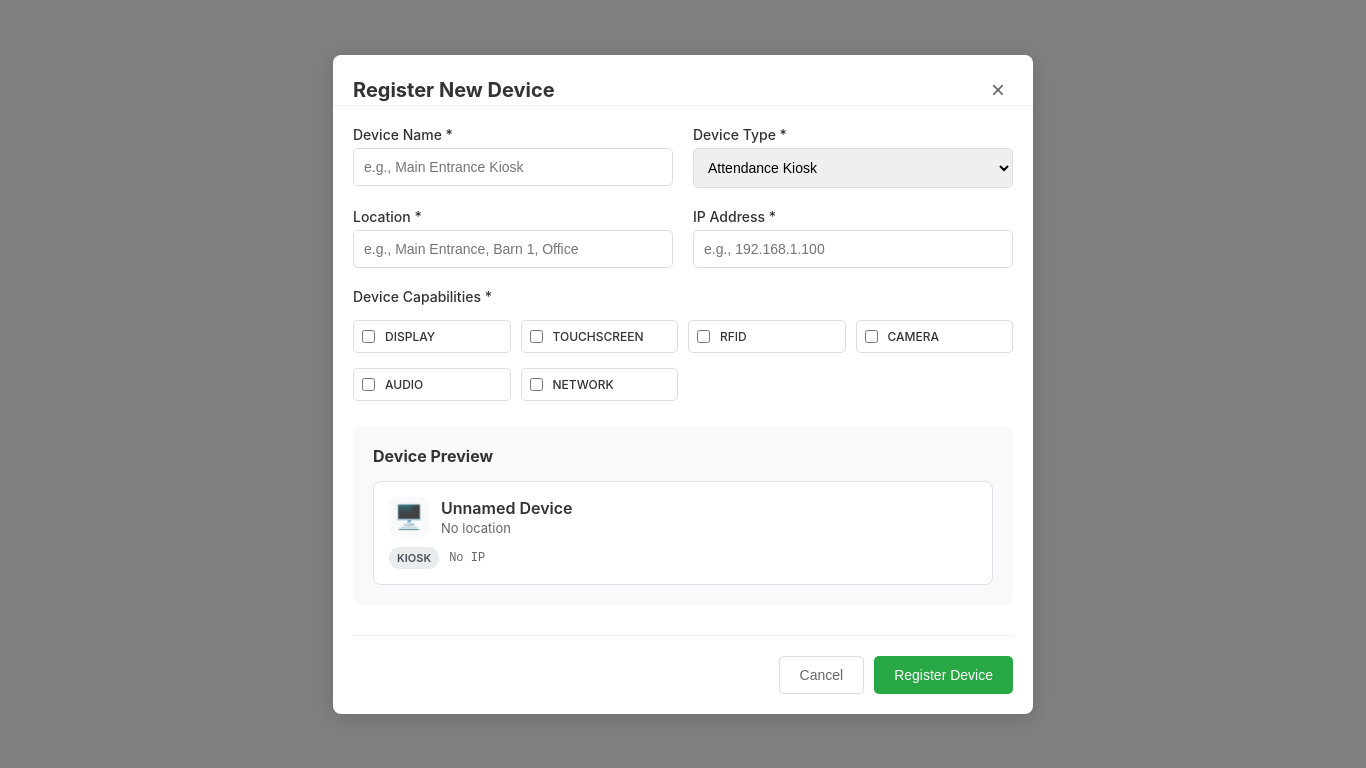
Scenario: DeviceRegistration › validates device name length
The width and height of the screenshot is (1366, 768).
In the field labelled "Device Name *": [513, 166] box x1=353 y1=148 x2=673 y2=186, type "AB"
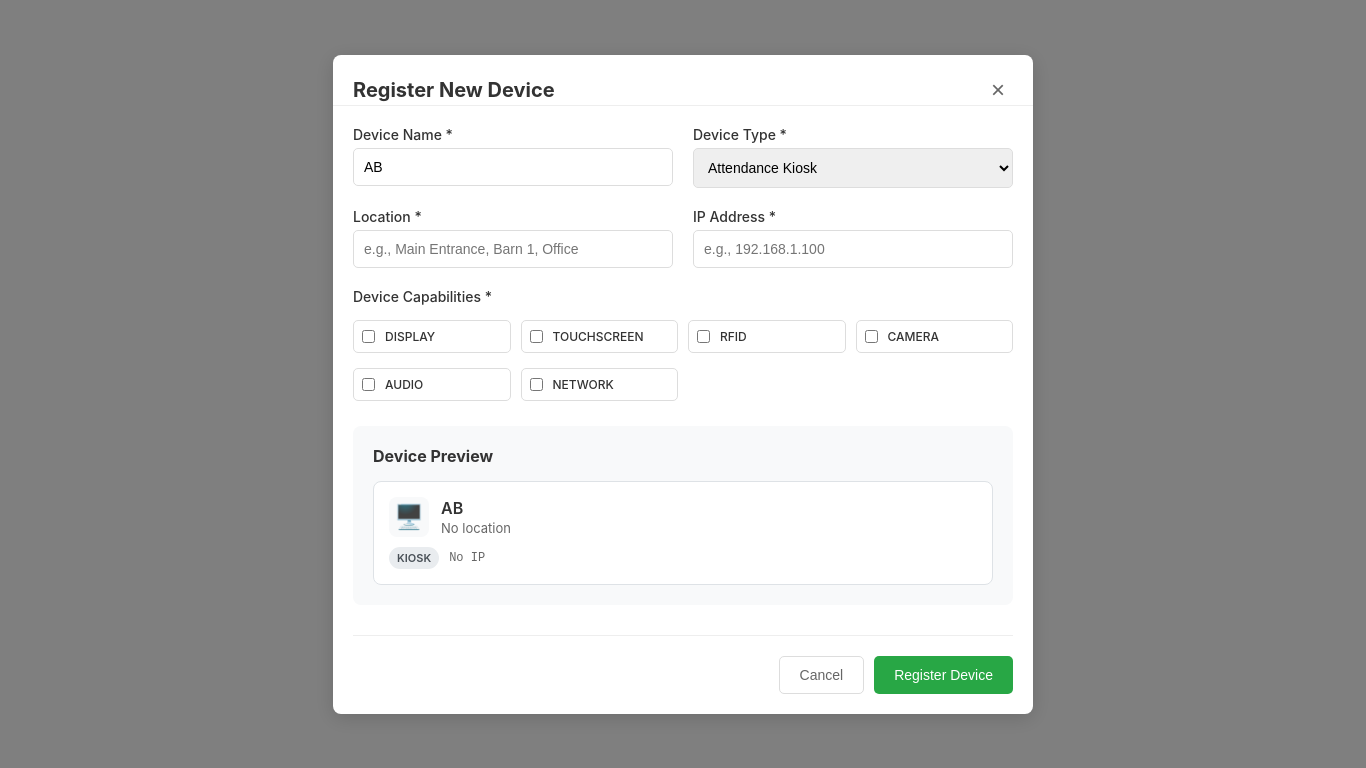
Click the button "Register Device": [944, 674] box x1=874 y1=656 x2=1013 y2=694
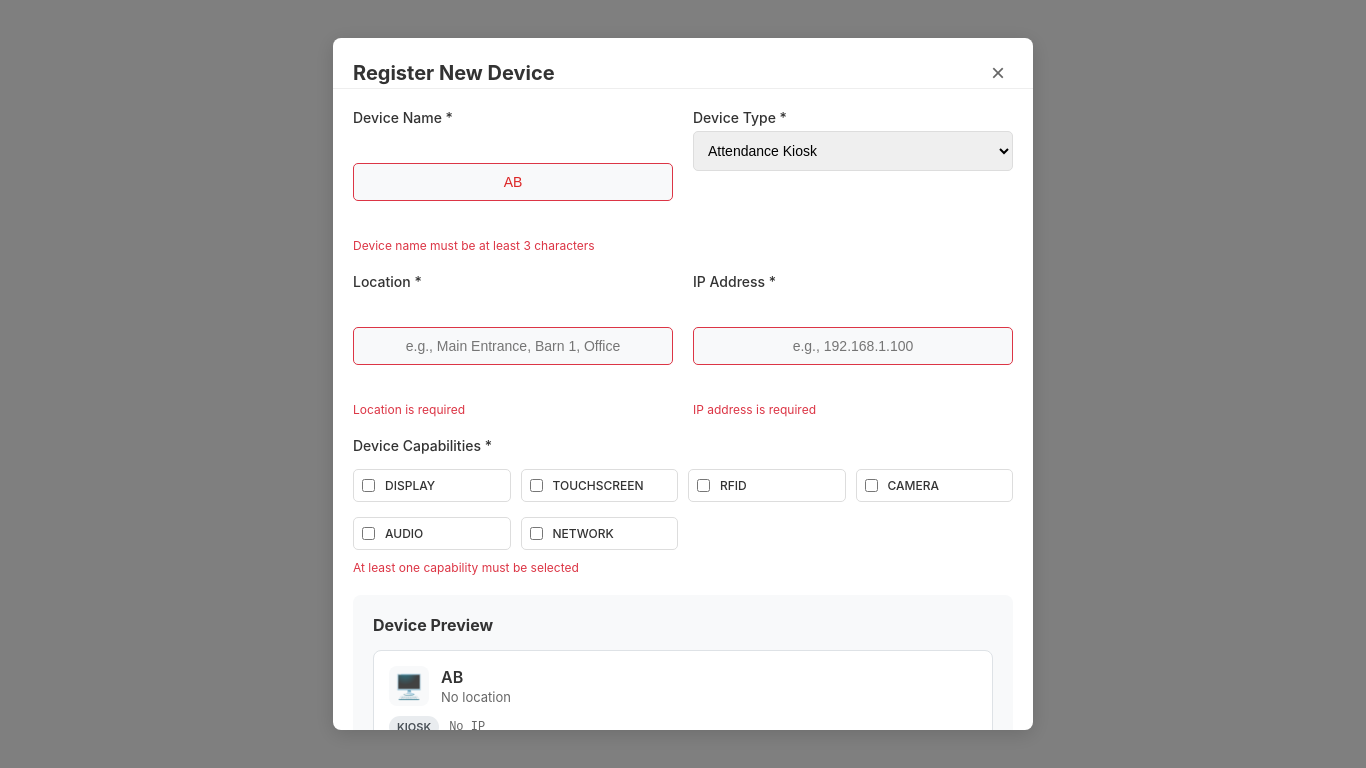
Result: the text "Device name must be at least 3 characters" is shown at x1=353 y1=238 x2=595 y2=253
